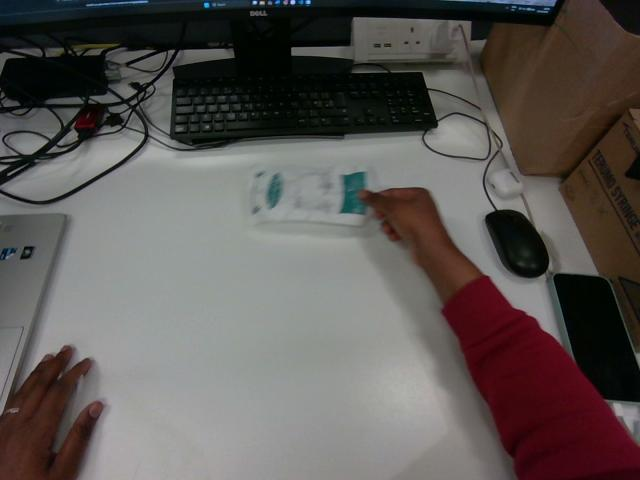gallipot: (250, 166, 371, 226)
